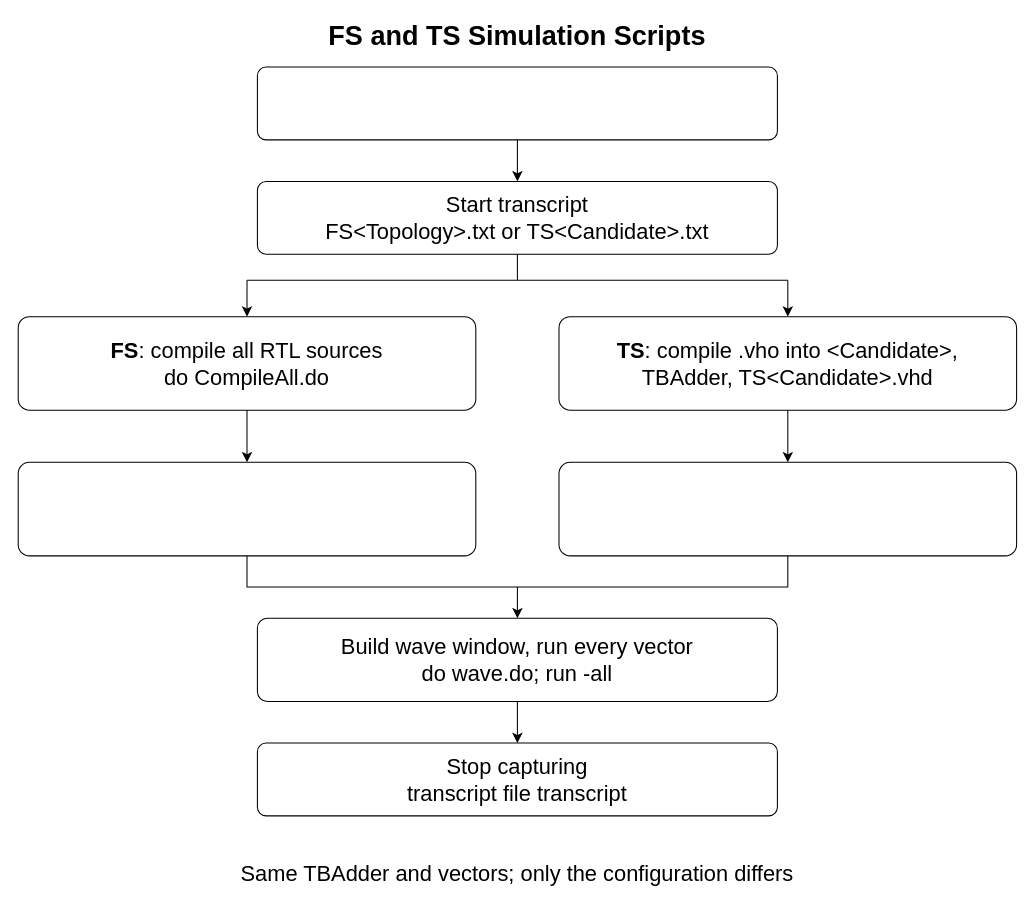
Image size: 1035x906. Some labels were removed from this diagram. Each missing label, with the centre of its shape:
Close previous simulation catch {quit -sim}: [516,103]
Load configuration vsim work.FS<Topology>: [246,508]
Load with SDF delays: vsim -sdfmax DUT=.sdo work.TS<Candidate>: [787,508]
